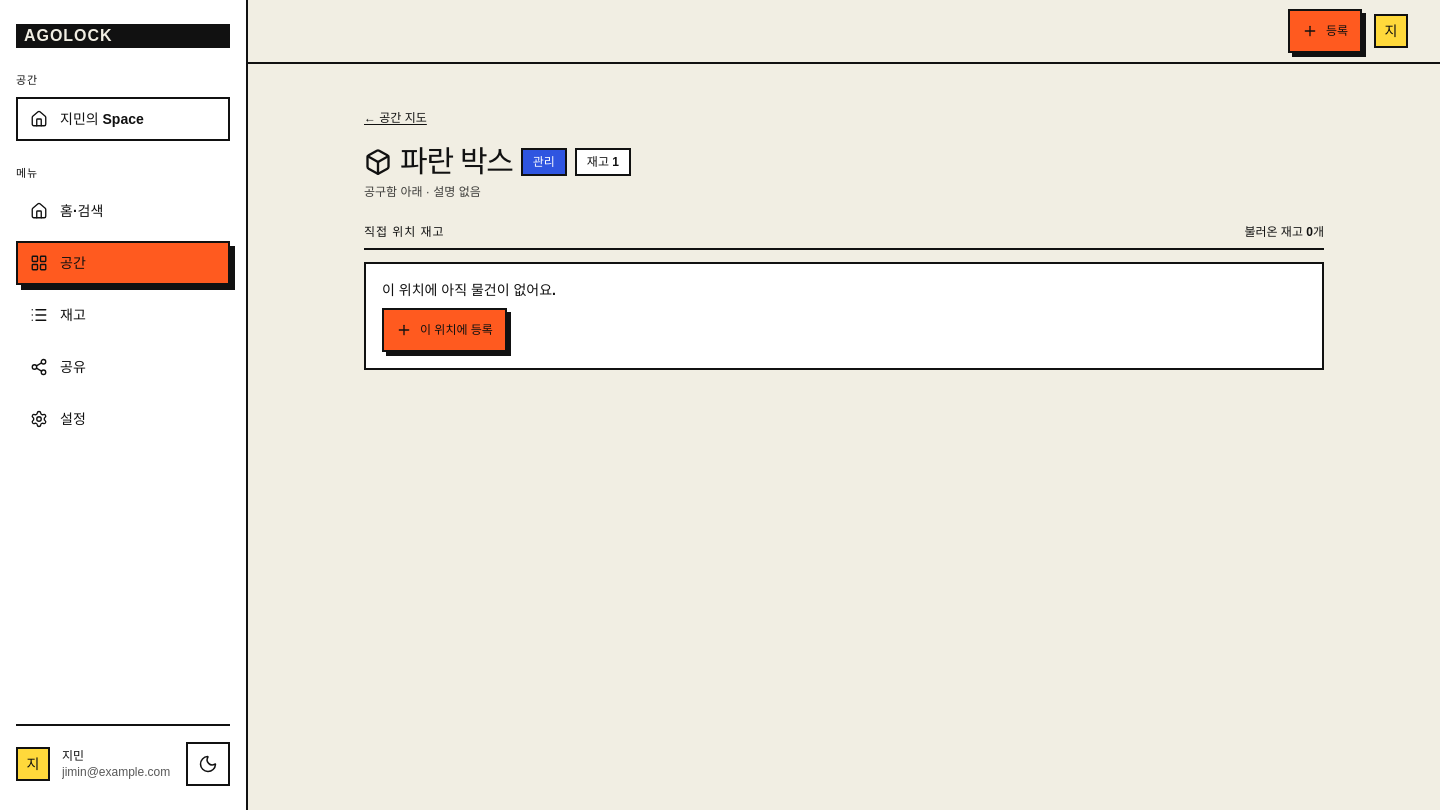
공유 Box 상세 › 공유 위치 문맥으로 등록 시트를 열고 새 물건 모드를 막는다
Click the button "이 위치에 등록": coordinates (444, 330) [382,308,507,352]
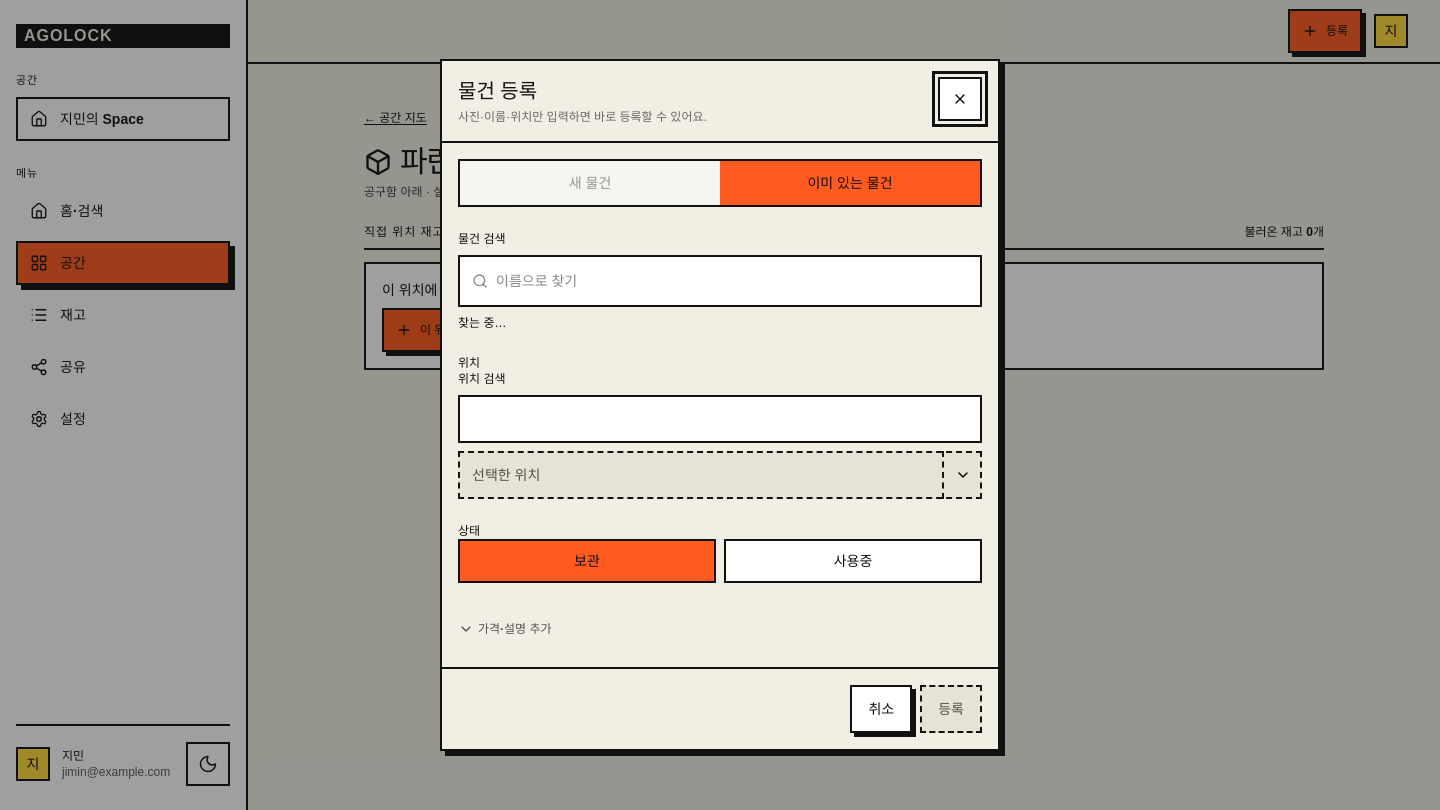
Expected: the tab "새 물건" is disabled, [460,161,720,205]
Expected: the dropdown named "대상 위치" is disabled, [458,451,982,499]
Expected: the field labelled "물건 검색" is shown, [488,257,980,305]
